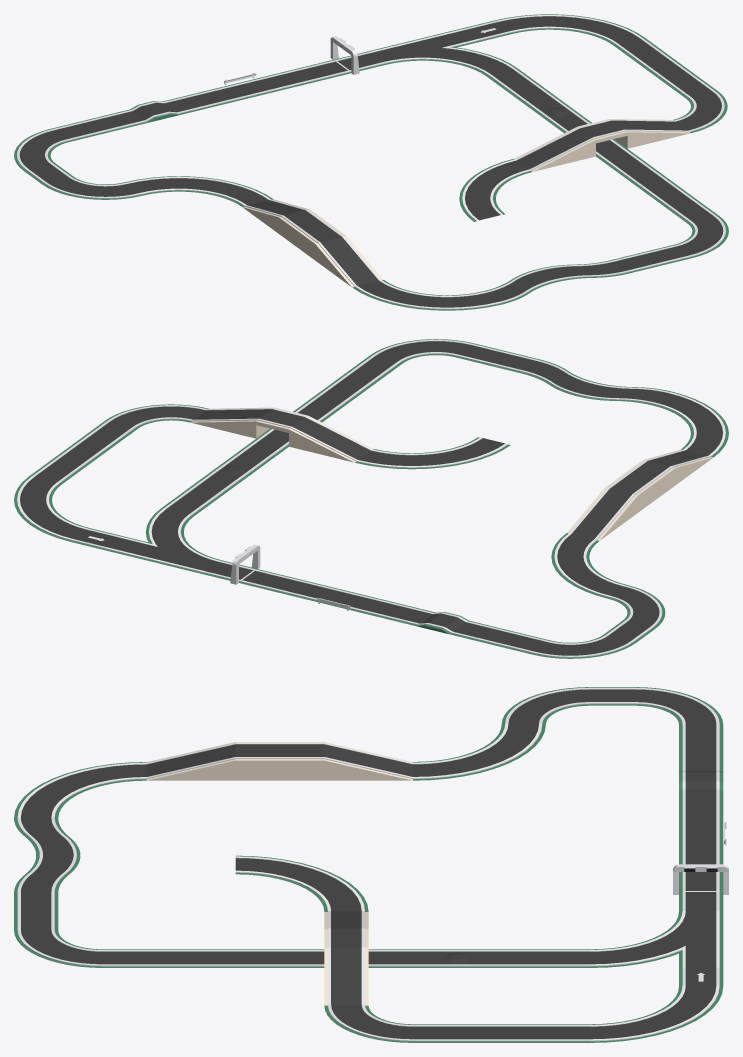
Rendered from track_k1.glb.
The picture shows the model from 3 angles, top to bottom: view 1: azimuth 30°, elevation 25°; view 2: azimuth 150°, elevation 25°; view 3: azimuth 270°, elevation 25°; orthographic projection. The views are drawn at different scales.
Parts seen in each view (by area): view 1: mergedBlocks(Clone); view 2: mergedBlocks(Clone); view 3: mergedBlocks(Clone).
Boxes of the visible parts, <box> form: mergedBlocks(Clone): <box>14,14,728,310</box>; mergedBlocks(Clone): <box>14,339,728,658</box>; mergedBlocks(Clone): <box>14,687,728,1042</box>.
Size of the model in its own units: 19 by 0.6682 by 16.13.
